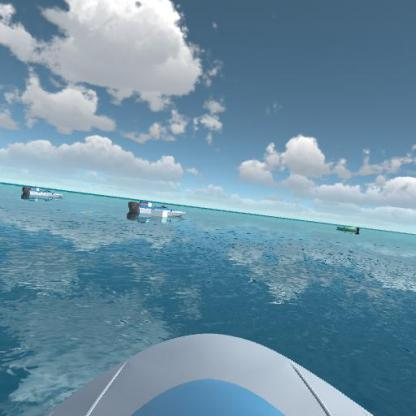usv0: (336, 222, 365, 238)
usv1: (124, 196, 188, 222), (16, 178, 66, 205)
